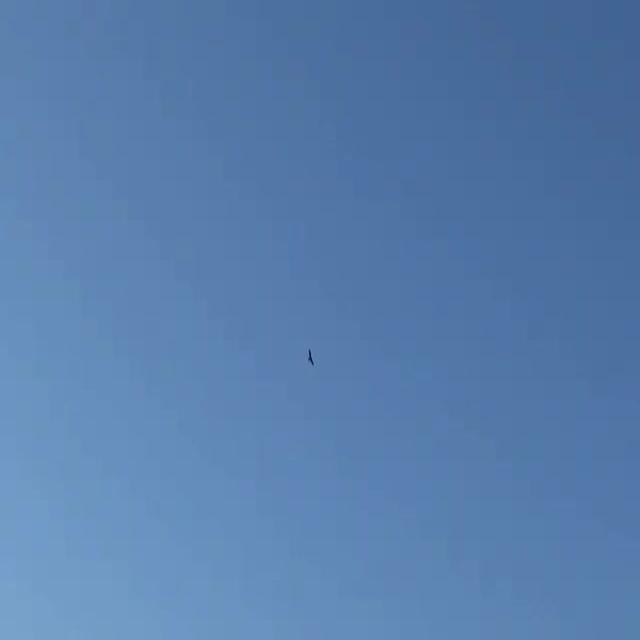bird: (304, 349, 318, 368)
